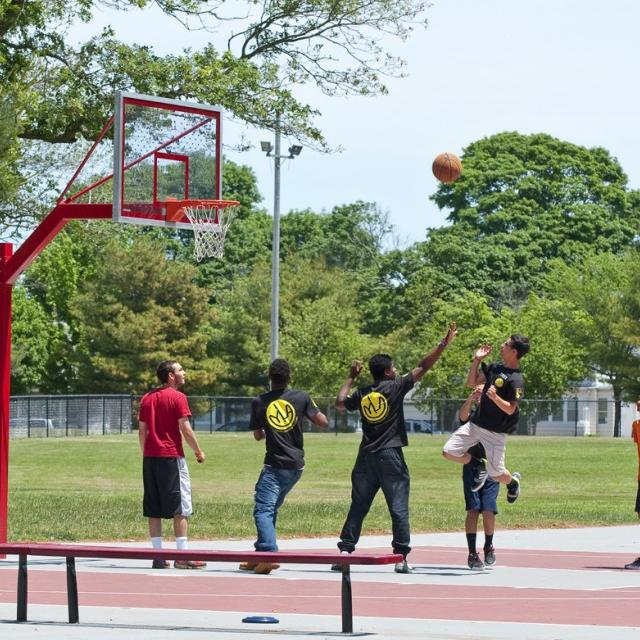basketball: (432, 150, 460, 181)
hoop: (182, 199, 228, 261)
